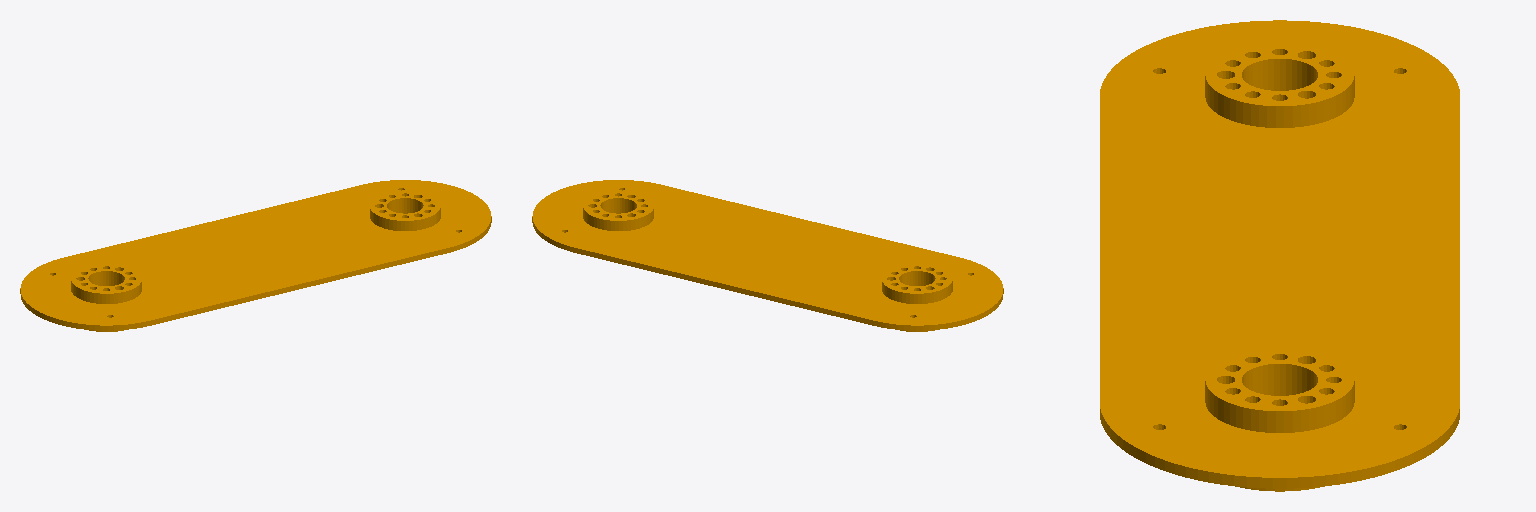
URDF robot description (skeleton):
<?xml version="1.0"?>
<robot name="skeleton">


    <!-- =========================
       LINKS (INERTIAL + VISUAL + COLLISION)
       Mesh paths are correct for:
       simulation/isaac/assets/urdf/skeleton.urdf
       simulation/isaac/assets/meshes/skeleton/*.stl
       simulation/isaac/assets/meshes/skeleton/collision_meshes/*_collision.stl
       ========================= -->

  <link name="pelvis_link">
    <inertial>
      <origin xyz="0.00 0.00 -0.0030" rpy="0 0 0"/>
      <mass value="0.470"/>
      <inertia ixx="0.005" ixy="0.00" ixz="0.00"
               iyy="0.005" iyz="0.00" izz="0.00"/>
    </inertial>
    <visual>
      <origin xyz="0 0 0" rpy="3.141592654 0 3.141592654"/>
      <geometry>
        <mesh filename="../meshes/skeleton/pelvis_link.stl"/>
      </geometry>
    </visual>
    <collision>
      <origin xyz="0 0 0" rpy="0 0 0"/>
      <geometry>
        <mesh filename="../meshes/skeleton/collision_meshes/pelvis_link_collision.stl"/>
      </geometry>
    </collision>
  </link>

  <!-- <link name="torso_link">
    <inertial>
      <origin xyz="0.00 0.00 0.15" rpy="0 0 0"/>
      <mass value="3.477"/>
      <inertia ixx="0.05" ixy="0.00" ixz="0.00"
               iyy="0.05" iyz="0.00" izz="0.03"/>
    </inertial>
    <visual>
      <origin xyz="0.8250	-0.1610	-0.0010" rpy="3.141592654 0 3.141592654"/>
      <geometry>
        <mesh filename="../meshes/skeleton/torso_link.stl"/>
      </geometry>
    </visual>
    <collision>
      <origin xyz="0.8250	-0.1610	-0.0010" rpy="3.141592654 0 3.141592654"/>
      <geometry>
        <mesh filename="../meshes/skeleton/collision_meshes/torso_link_collision.stl"/>
      </geometry>
    </collision>
  </link> -->

  <!-- Left leg links -->

  <!-- <link name="l_hip_yaw_link">
    <inertial>
      <origin xyz="0.00 0.06 -0.07" rpy="0 0 0"/>
      <mass value="6.334"/>
      <inertia ixx="0.03" ixy="0.00" ixz="0.01"
               iyy="0.04" iyz="0.00" izz="0.03"/>
    </inertial>
    <visual>
      <origin xyz="0 0 0" rpy="0 0 0"/>
      <geometry>
        <mesh filename="../meshes/skeleton/l_hip_yaw_link.stl"/>
      </geometry>
    </visual>
    <collision>
      <origin xyz="0 0 0" rpy="0 0 0"/>
      <geometry>
        <mesh filename="../meshes/skeleton/collision_meshes/l_hip_yaw_link_collision.stl"/>
      </geometry>
    </collision>
  </link> -->

  <!-- <link name="l_hip_pitch_link">
    <inertial>
      <origin xyz="-0.03 -0.07 0.00" rpy="0 0 0"/>
      <mass value="2.494"/>
      <inertia ixx="0.00" ixy="0.00" ixz="0.00"
               iyy="0.01" iyz="0.00" izz="0.00"/>
    </inertial>
    <visual>
      <origin xyz="0 0 0" rpy="0 0 0"/>
      <geometry>
        <mesh filename="../meshes/skeleton/l_hip_pitch_link.stl"/>
      </geometry>
    </visual>
    <collision>
      <origin xyz="0 0 0" rpy="0 0 0"/>
      <geometry>
        <mesh filename="../meshes/skeleton/collision_meshes/l_hip_pitch_link_collision.stl"/>
      </geometry>
    </collision>
  </link> -->

  <!-- <link name="l_thigh_link">
    <inertial>
      <origin xyz="0.00 -0.01 -0.26" rpy="0 0 0"/>
      <mass value="3.092"/>
      <inertia ixx="0.03" ixy="0.00" ixz="0.00"
               iyy="0.03" iyz="0.00" izz="0.00"/>
    </inertial>
    <visual>
      <origin xyz="0 0 0" rpy="0 0 0"/>
      <geometry>
        <mesh filename="../meshes/skeleton/l_thigh_link.stl"/>
      </geometry>
    </visual>
    <collision>
      <origin xyz="0 0 0" rpy="0 0 0"/>
      <geometry>
        <mesh filename="../meshes/skeleton/collision_meshes/l_thigh_link_collision.stl"/>
      </geometry>
    </collision>
  </link> -->

  <!-- <link name="l_shank_link">
    <inertial>
      <origin xyz="0.00 0.02 -0.15" rpy="0 0 0"/>
      <mass value="0.852"/>
      <inertia ixx="0.01" ixy="0.00" ixz="0.00"
               iyy="0.01" iyz="0.00" izz="0.00"/>
    </inertial>
    <visual>
      <origin xyz="0 0 0" rpy="0 0 0"/>
      <geometry>
        <mesh filename="../meshes/skeleton/l_shank_link.stl"/>
      </geometry>
    </visual>
    <collision>
      <origin xyz="0 0 0" rpy="0 0 0"/>
      <geometry>
        <mesh filename="../meshes/skeleton/collision_meshes/l_shank_link_collision.stl"/>
      </geometry>
    </collision>
  </link> -->

  <!-- <link name="l_ankle_link">
    <inertial>
      <origin xyz="0.00 -0.03 0.00" rpy="0 0 0"/>
      <mass value="2.498"/>
      <inertia ixx="0.01" ixy="0.00" ixz="0.00"
               iyy="0.00" iyz="0.00" izz="0.00"/>
    </inertial>
    <visual>
      <origin xyz="0 0 0" rpy="0 0 0"/>
      <geometry>
        <mesh filename="../meshes/skeleton/l_ankle_link.stl"/>
      </geometry>
    </visual>
    <collision>
      <origin xyz="0 0 0" rpy="0 0 0"/>
      <geometry>
        <mesh filename="../meshes/skeleton/collision_meshes/l_ankle_link_collision.stl"/>
      </geometry>
    </collision>
  </link> -->

  <!-- <link name="l_foot_link">
    <inertial>
      <origin xyz="0.02 0.00 -0.01" rpy="0 0 0"/>
      <mass value="2.790"/>
      <inertia ixx="0.01" ixy="0.00" ixz="0.00"
               iyy="0.01" iyz="0.00" izz="0.01"/>
    </inertial>
    <visual>
      <origin xyz="0 0 0" rpy="0 0 0"/>
      <geometry>
        <mesh filename="../meshes/skeleton/l_foot_link.stl"/>
      </geometry>
    </visual>
    <collision>
      <origin xyz="0 0 0" rpy="0 0 0"/>
      <geometry>
        <mesh filename="../meshes/skeleton/collision_meshes/l_foot_link_collision.stl"/>
      </geometry>
    </collision>
  </link> -->

  <!-- Right leg links -->
  <!-- <link name="r_hip_yaw_link">
    <inertial>
      <origin xyz="0.00 -0.06 -0.07" rpy="0 0 0"/>
      <mass value="6.334"/>
      <inertia ixx="0.03" ixy="0.00" ixz="0.01"
               iyy="0.00" iyz="0.00" izz="0.03"/>
    </inertial>
    <visual>
      <origin xyz="0 0 0" rpy="0 0 0"/>
      <geometry>
        <mesh filename="../meshes/skeleton/r_hip_yaw_link.stl"/>
      </geometry>
    </visual>
    <collision>
      <origin xyz="0 0 0" rpy="0 0 0"/>
      <geometry>
        <mesh filename="../meshes/skeleton/collision_meshes/r_hip_yaw_link_collision.stl"/>
      </geometry>
    </collision>
  </link> -->

  <!-- <link name="r_hip_pitch_link">
    <inertial>
      <origin xyz="-0.03 0.07 0.00" rpy="0 0 0"/>
      <mass value="2.494"/>
      <inertia ixx="0.00" ixy="0.00" ixz="0.00"
               iyy="0.01" iyz="0.00" izz="0.00"/>
    </inertial>
    <visual>
      <origin xyz="0 0 0" rpy="0 0 0"/>
      <geometry>
        <mesh filename="../meshes/skeleton/r_hip_pitch_link.stl"/>
      </geometry>
    </visual>
    <collision>
      <origin xyz="0 0 0" rpy="0 0 0"/>
      <geometry>
        <mesh filename="../meshes/skeleton/collision_meshes/r_hip_pitch_link_collision.stl"/>
      </geometry>
    </collision>
  </link> -->

  <!-- <link name="r_thigh_link">
    <inertial>
      <origin xyz="0.00 0.01 -0.26" rpy="0 0 0"/>
      <mass value="3.092"/>
      <inertia ixx="0.03" ixy="0.00" ixz="0.00"
               iyy="0.03" iyz="0.00" izz="0.00"/>
    </inertial>
    <visual>
      <origin xyz="0 0 0" rpy="0 0 0"/>
      <geometry>
        <mesh filename="../meshes/skeleton/r_thigh_link.stl"/>
      </geometry>
    </visual>
    <collision>
      <origin xyz="0 0 0" rpy="0 0 0"/>
      <geometry>
        <mesh filename="../meshes/skeleton/collision_meshes/r_thigh_link_collision.stl"/>
      </geometry>
    </collision>
  </link> -->

  <!-- <link name="r_shank_link">
    <inertial>
      <origin xyz="0.00 -0.02 -0.15" rpy="0 0 0"/>
      <mass value="0.852"/>
      <inertia ixx="0.01" ixy="0.00" ixz="0.00"
               iyy="0.01" iyz="0.00" izz="0.00"/>
    </inertial>
    <visual>
      <origin xyz="0 0 0" rpy="0 0 0"/>
      <geometry>
        <mesh filename="../meshes/skeleton/r_shank_link.stl"/>
      </geometry>
    </visual>
    <collision>
      <origin xyz="0 0 0" rpy="0 0 0"/>
      <geometry>
        <mesh filename="../meshes/skeleton/collision_meshes/r_shank_link_collision.stl"/>
      </geometry>
    </collision>
  </link> -->

  <!-- <link name="r_ankle_link">
    <inertial>
      <origin xyz="0.00 0.03 0.00" rpy="0 0 0"/>
      <mass value="2.498"/>
      <inertia ixx="0.01" ixy="0.00" ixz="0.00"
               iyy="0.00" iyz="0.00" izz="0.00"/>
    </inertial>
    <visual>
      <origin xyz="0 0 0" rpy="0 0 0"/>
      <geometry>
        <mesh filename="../meshes/skeleton/r_ankle_link.stl"/>
      </geometry>
    </visual>
    <collision>
      <origin xyz="0 0 0" rpy="0 0 0"/>
      <geometry>
        <mesh filename="../meshes/skeleton/collision_meshes/r_ankle_link_collision.stl"/>
      </geometry>
    </collision>
  </link> -->

  <!-- <link name="r_foot_link">
    <inertial>
      <origin xyz="0.02 0.00 -0.01" rpy="0 0 0"/>
      <mass value="2.790"/>
      <inertia ixx="0.01" ixy="0.00" ixz="0.00"
               iyy="0.01" iyz="0.00" izz="0.01"/>
    </inertial>
    <visual>
      <origin xyz="0 0 0" rpy="0 0 0"/>
      <geometry>
        <mesh filename="../meshes/skeleton/r_foot_link.stl"/>
      </geometry>
    </visual>
    <collision>
      <origin xyz="0 0 0" rpy="0 0 0"/>
      <geometry>
        <mesh filename="../meshes/skeleton/collision_meshes/r_foot_link_collision.stl"/>
      </geometry>
    </collision> 
  </link> -->



  <!-- =========================
       JOINTS (Z-UP ORIGINS + AXES)
       ========================= -->


  <!-- Torso -->

  <!-- <joint name="torso_joint" type="fixed">
    <parent link="pelvis_link"/>
    <child link="torso_link"/>
    <origin xyz="0.00 0.00 0.00" rpy="0 0 0"/> 
  </joint> -->

  <!-- Left leg chain -->

  <!-- <joint name="l_hip_yaw_joint" type="revolute">
    <parent link="pelvis_link"/>
    <child link="l_hip_yaw_link"/>
    <origin xyz="0.00 0.12 -0.01" rpy="0 0 0"/>
    <axis xyz="0 0 1"/>
    <limit lower="-3.14" upper="3.14" effort="120" velocity="5.0"/>
  </joint> -->

  <!-- <joint name="l_hip_pitch_joint" type="revolute">
    <parent link="l_hip_yaw_link"/>
    <child link="l_hip_pitch_link"/>
    <origin xyz="0.00 0.08 -0.14" rpy="0 0 0"/>
    <axis xyz="0 1 0"/>
    <limit lower="-3.14" upper="3.14" effort="120" velocity="5.0"/>
  </joint> -->

  <!-- <joint name="l_hip_roll_joint" type="revolute">
    <parent link="l_hip_pitch_link"/>
    <child link="l_thigh_link"/>
    <origin xyz="0.00 -0.08 0.00" rpy="0 0 0"/>
    <axis xyz="1 0 0"/>
    <limit lower="-3.14" upper="3.14" effort="120" velocity="5.0"/>
  </joint> -->

  <!-- <joint name="l_knee_joint" type="revolute">
    <parent link="l_thigh_link"/>
    <child link="l_shank_link"/>
    <origin xyz="0.00 0.01 -0.30" rpy="0 0 0"/>
    <axis xyz="0 1 0"/>
    <limit lower="-3.14" upper="3.14" effort="120" velocity="5.0"/>
  </joint> -->

  <!-- <joint name="l_ankle_joint" type="revolute">
    <parent link="l_shank_link"/>
    <child link="l_ankle_link"/>
    <origin xyz="0.00 0.00 -0.30" rpy="0 0 0"/>
    <axis xyz="0 1 0"/>
    <limit lower="-3.14" upper="3.14" effort="120" velocity="5.0"/>
  </joint> -->

  <!-- <joint name="l_foot_joint" type="revolute">
    <parent link="l_ankle_link"/>
    <child link="l_foot_link"/>
    <origin xyz="0.07 -0.01 0.00" rpy="0 0 0"/>
    <axis xyz="1 0 0"/>
    <limit lower="-3.14" upper="3.14" effort="120" velocity="5.0"/>
  </joint> -->



  <!-- Right leg chain -->
  <!-- <joint name="r_hip_yaw_joint" type="revolute">
    <parent link="pelvis_link"/>
    <child link="r_hip_yaw_link"/>
    <origin xyz="0.00 -0.12 -0.01" rpy="0 0 0"/>
    <axis xyz="0 0 1"/>
    <limit lower="-3.14" upper="3.14" effort="120" velocity="5.0"/>
  </joint> -->

  <!-- <joint name="r_hip_pitch_joint" type="revolute">
    <parent link="r_hip_yaw_link"/>
    <child link="r_hip_pitch_link"/>
    <origin xyz="0.00 -0.08 -0.14" rpy="0 0 0"/>
    <axis xyz="0 1 0"/>
    <limit lower="-3.14" upper="3.14" effort="120" velocity="5.0"/>
  </joint> -->

  <!-- <joint name="r_hip_roll_joint" type="revolute">
    <parent link="r_hip_pitch_link"/>
    <child link="r_thigh_link"/>
    <origin xyz="0.00 0.08 0.00" rpy="0 0 0"/>
    <axis xyz="1 0 0"/>
    <limit lower="-3.14" upper="3.14" effort="120" velocity="5.0"/>
  </joint> -->

  <!-- <joint name="r_knee_joint" type="revolute">
    <parent link="r_thigh_link"/>
    <child link="r_shank_link"/>
    <origin xyz="0.00 -0.01 -0.30" rpy="0 0 0"/>
    <axis xyz="0 1 0"/>
    <limit lower="-3.14" upper="3.14" effort="120" velocity="5.0"/>
  </joint> -->

  <!-- <joint name="r_ankle_joint" type="revolute">
    <parent link="r_shank_link"/>
    <child link="r_ankle_link"/>
    <origin xyz="0.00 0.00 -0.30" rpy="0 0 0"/>
    <axis xyz="0 1 0"/>
    <limit lower="-3.14" upper="3.14" effort="120" velocity="5.0"/>
  </joint> -->

  <!-- <joint name="r_foot_joint" type="revolute">
    <parent link="r_ankle_link"/>
    <child link="r_foot_link"/>
    <origin xyz="0.07 0.01 0.00" rpy="0 0 0"/>
    <axis xyz="1 0 0"/>
    <limit lower="-3.14" upper="3.14" effort="120" velocity="5.0"/>
  </joint> -->


</robot>

--- What the picture shows (computed from the rendered views, not written in the file) ---
3 views of the same robot in one strip: view 1: azimuth 30°, elevation 25°; view 2: azimuth 150°, elevation 25°; view 3: azimuth 270°, elevation 25° (orthographic).
Model skeleton with 1 links and 0 joints (none), rooted at pelvis_link, posed every joint at zero.
Links seen in each view (by area): view 1: pelvis_link; view 2: pelvis_link; view 3: pelvis_link.
Link boxes in pixels (x1,y1,x2,y2): pelvis_link: (20, 180, 491, 331); pelvis_link: (532, 180, 1003, 331); pelvis_link: (1100, 20, 1459, 491).
Bounding box of the posed robot: 360 × 120 × 27 m (x, y, z).
Meshes: 1 distinct files referenced, 1 mesh visuals loaded (1 binary STL).
